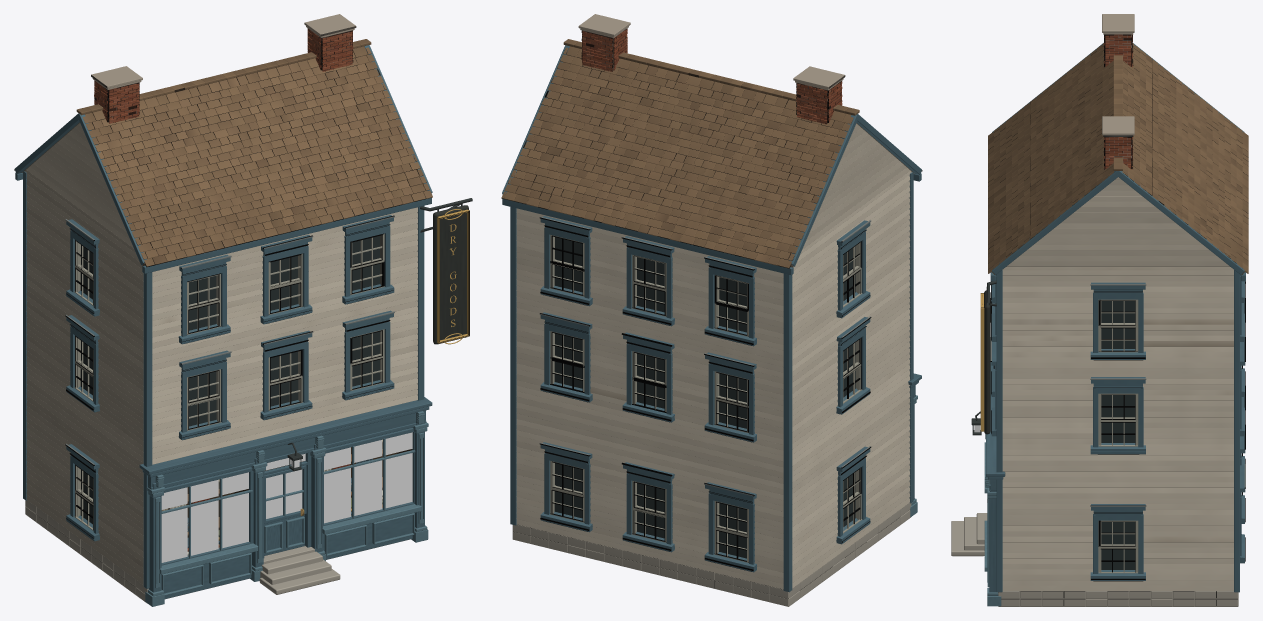
The model's file is DryGoodsV05.fbx.
The picture shows the model from 3 angles, left to right: view 1: azimuth 30°, elevation 25°; view 2: azimuth 150°, elevation 25°; view 3: azimuth 270°, elevation 25°; orthographic projection. The views are drawn at different scales.
Parts seen in each view (by area): view 1: DG_Shell.001, DG_Roof.001, DG_Storefront.001, DG_WindowFrames, DG_StoreGlass, DG_Door, DG_DoorGlass, DG_Pane_front_5, DG_Pane_front_3, DG_Pane_front_2, DG_Pane_front_0, DG_Pane_front_4 (+1 smaller); view 2: DG_Shell.001, DG_Roof.001, DG_WindowFrames, DG_Pane_rear_11, DG_Pane_rear_14, DG_Pane_rear_8, DG_Pane_rear_10, DG_Pane_rear_9, DG_Pane_rear_12, DG_Pane_rear_13, DG_Pane_rear_7, DG_Pane_rear_6; view 3: DG_Shell.001, DG_Roof.001, DG_WindowFrames, DG_Storefront.001, DG_Pane_right_18, DG_Pane_right_20, DG_Pane_right_19.
Part boxes in pixels (box(x1,y1,x2,y2)): DG_Shell.001: box(22, 122, 424, 603); DG_Roof.001: box(14, 14, 432, 273); DG_Storefront.001: box(139, 198, 472, 606); DG_WindowFrames: box(65, 215, 394, 541); DG_StoreGlass: box(161, 432, 412, 562); DG_Door: box(264, 465, 306, 555); DG_DoorGlass: box(266, 469, 302, 518); DG_Pane_front_5: box(352, 236, 379, 290); DG_Pane_front_3: box(189, 276, 216, 330); DG_Pane_front_2: box(352, 331, 379, 386); DG_Pane_front_0: box(189, 371, 216, 426); DG_Pane_front_4: box(270, 256, 298, 310); DG_Shell.001: box(510, 123, 914, 606); DG_Roof.001: box(501, 14, 922, 275); DG_WindowFrames: box(539, 216, 871, 572); DG_Pane_rear_11: box(554, 333, 582, 388); DG_Pane_rear_14: box(554, 237, 582, 292); DG_Pane_rear_8: box(554, 463, 582, 518); DG_Pane_rear_10: box(637, 353, 664, 408); DG_Pane_rear_9: box(719, 373, 746, 428); DG_Pane_rear_12: box(719, 277, 746, 332); DG_Pane_rear_13: box(637, 257, 664, 312); DG_Pane_rear_7: box(637, 483, 664, 538); DG_Pane_rear_6: box(719, 503, 746, 558); DG_Shell.001: box(992, 177, 1244, 606); DG_Roof.001: box(988, 14, 1248, 281); DG_WindowFrames: box(990, 274, 1245, 581); DG_Storefront.001: box(951, 280, 1005, 606); DG_Pane_right_18: box(1101, 522, 1135, 569); DG_Pane_right_20: box(1101, 301, 1135, 348); DG_Pane_right_19: box(1101, 395, 1135, 442).
Bounding box in the file's own units: 929 × 1290 × 744.
